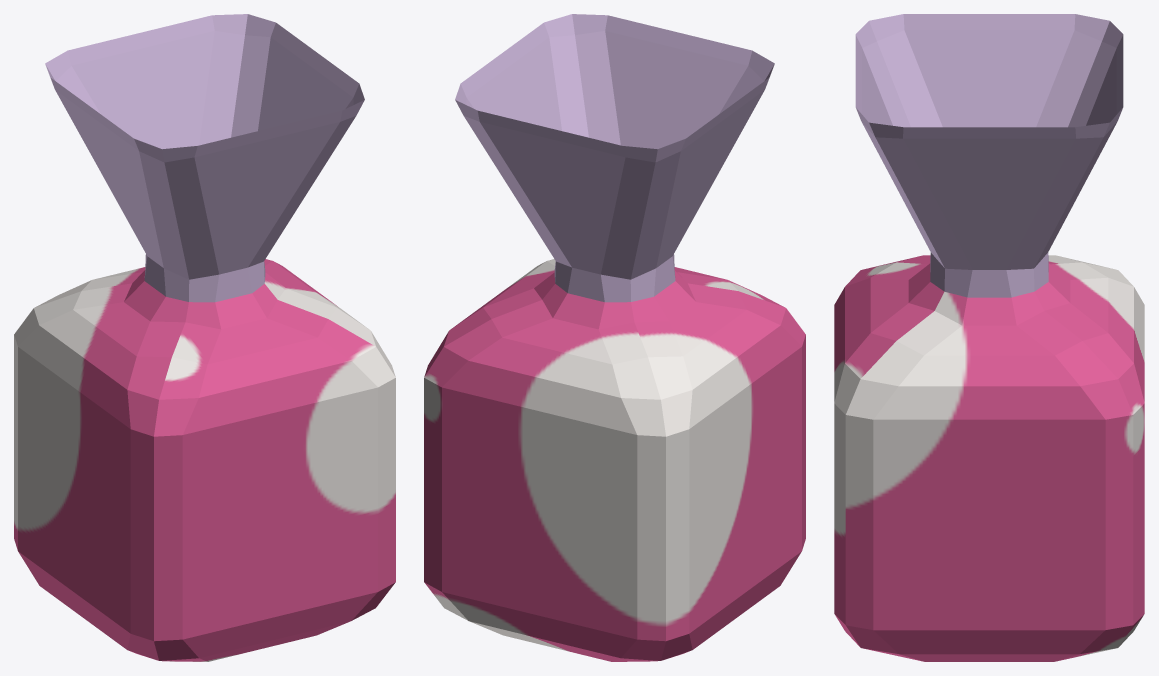
The model's file is 002_candy3.fbx.
The picture shows the model from 3 angles, left to right: view 1: azimuth 30°, elevation 25°; view 2: azimuth 150°, elevation 25°; view 3: azimuth 270°, elevation 25°; orthographic projection. The views are drawn at different scales.
Parts seen in each view (by area): view 1: Cube; view 2: Cube; view 3: Cube.
Boxes of the visible parts, x1=… form: Cube: x1=14, y1=14, x2=395, y2=661; Cube: x1=424, y1=14, x2=805, y2=661; Cube: x1=834, y1=14, x2=1144, y2=661.
Bounding box in the file's own units: 20 × 40.46 × 20.
1 material, 1 textured.
